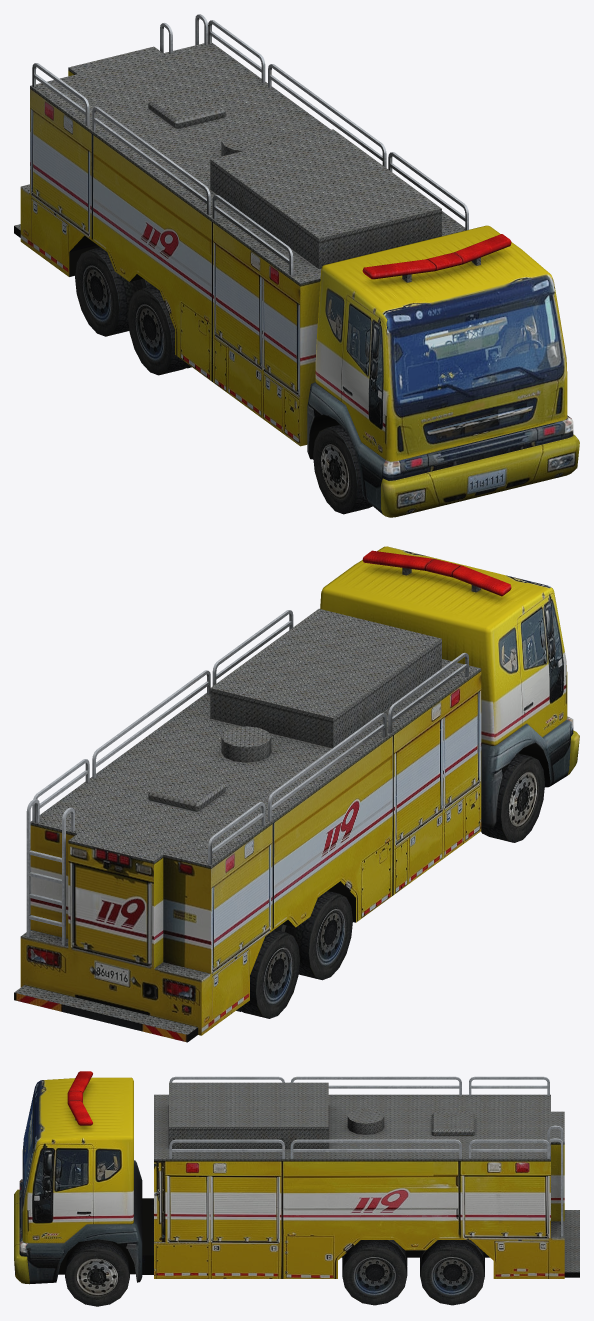
Rendered from FireEngine.gltf.
3 views of the same model, one above another, from view 1: azimuth 30°, elevation 25°; view 2: azimuth 150°, elevation 25°; view 3: azimuth 270°, elevation 25° (orthographic). The views are drawn at different scales.
Visible parts, largest first — view 1: FireEngine; view 2: FireEngine; view 3: FireEngine.
Boxes of the visible parts, left/top/right/bottom form: FireEngine: left=14, top=14, right=579, bottom=517; FireEngine: left=14, top=546, right=579, bottom=1042; FireEngine: left=14, top=1071, right=579, bottom=1306.
Size of the model in its own units: 26.8 by 31.85 by 92.21.
1 material, 1 textured.
